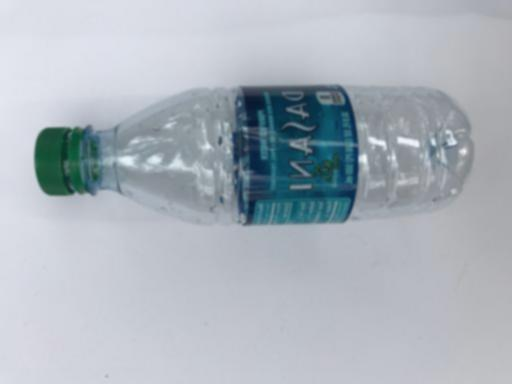PET: (33, 85, 474, 228)
dasani: (33, 85, 474, 228)
plastic: (33, 85, 474, 228)
